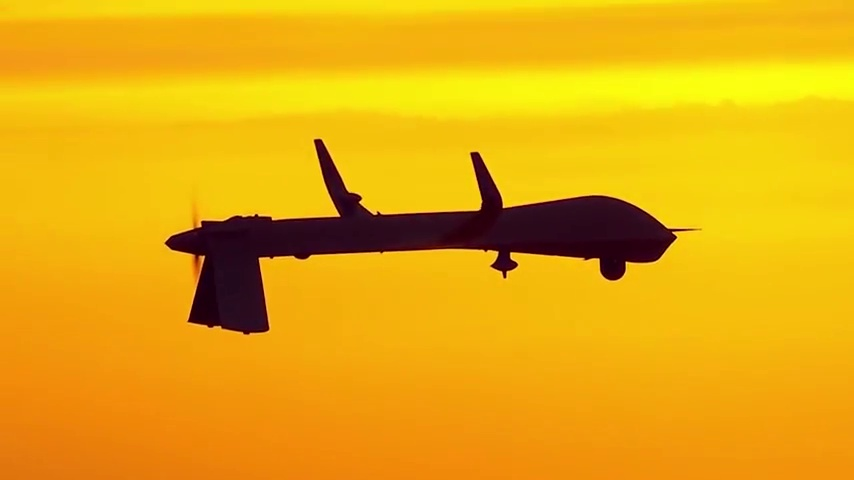military drone: (164, 139, 702, 334)
